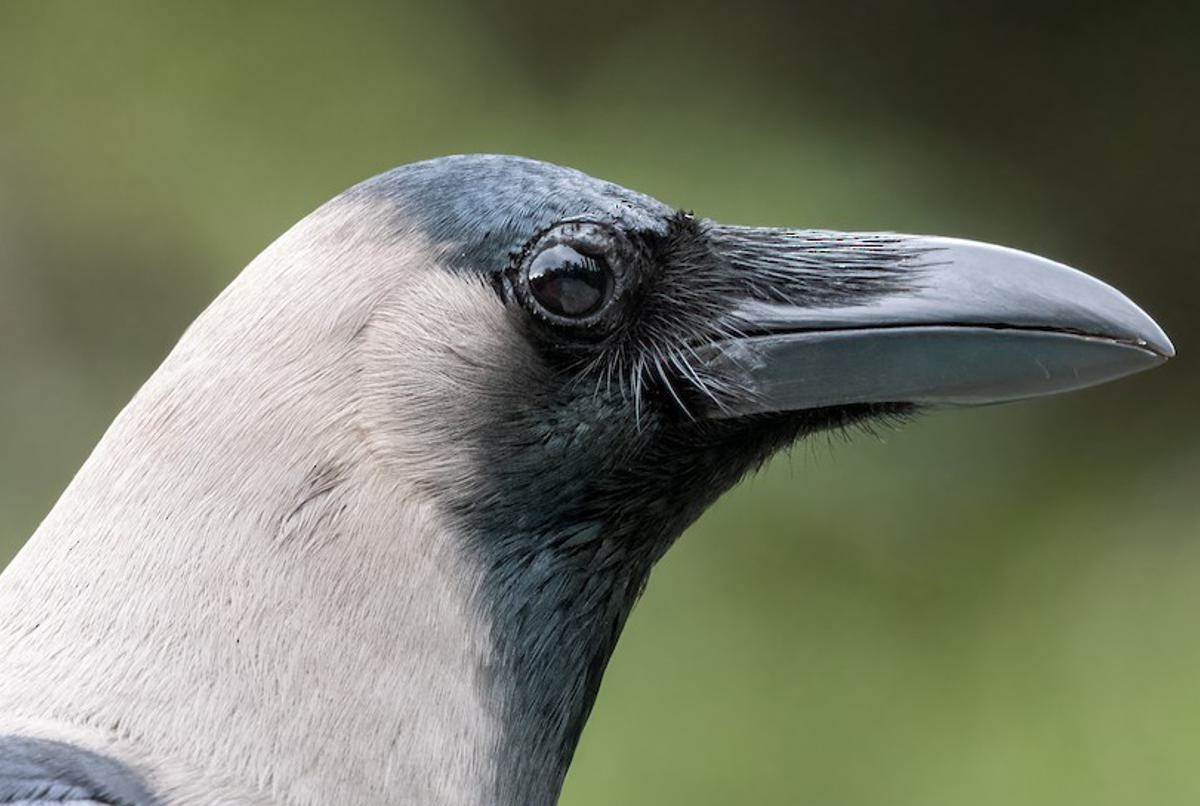crow: (1, 169, 1181, 806)
